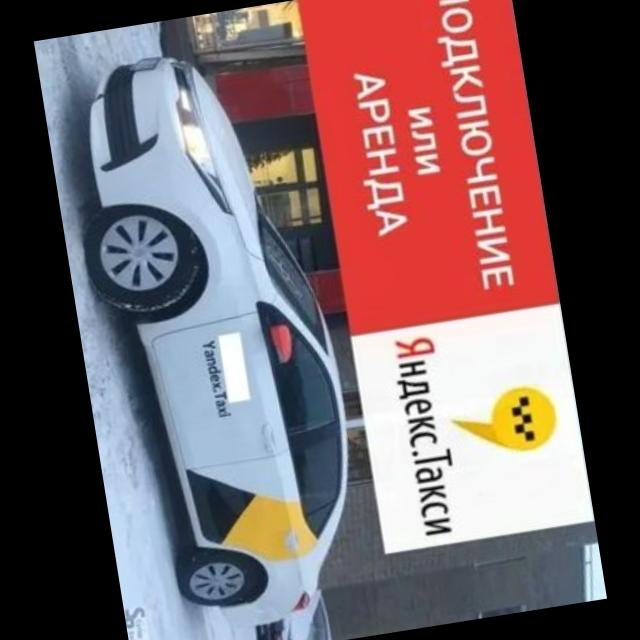taxi: (57, 35, 379, 640)
